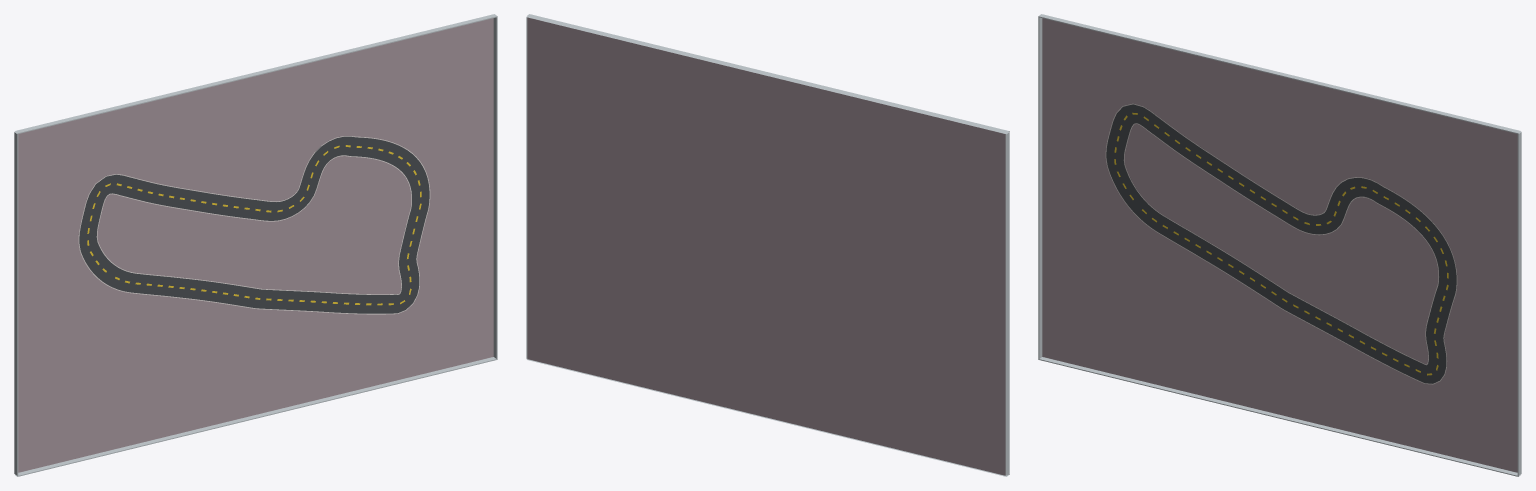
Rendered from track.obj.
3 renders of one model, left to right at view 1: azimuth 30°, elevation 25°; view 2: azimuth 150°, elevation 25°; view 3: azimuth 330°, elevation 25°, orthographic.
Size of the model in its own units: 27.07 by 18.51 by 0.3.
Materials: 5 (5 with a texture image).
